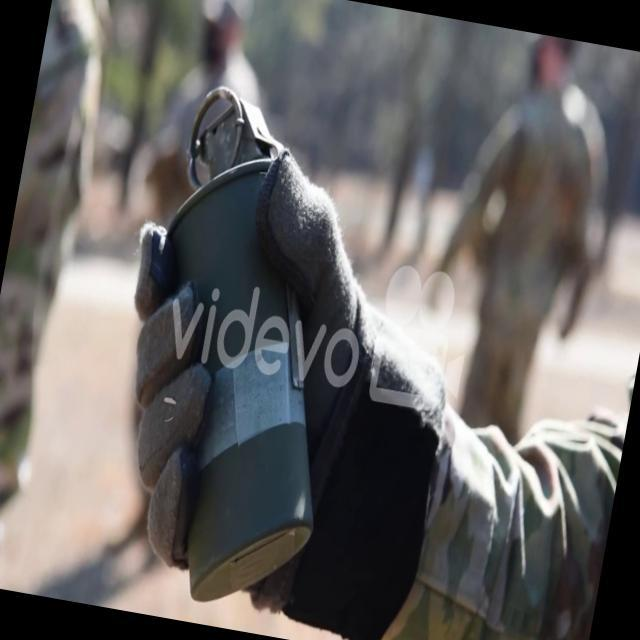grenade: (100, 74, 390, 614)
